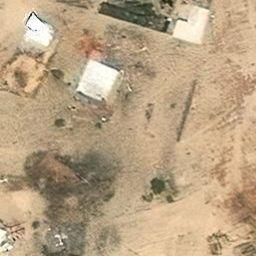manzanas: (54, 1, 214, 46)
